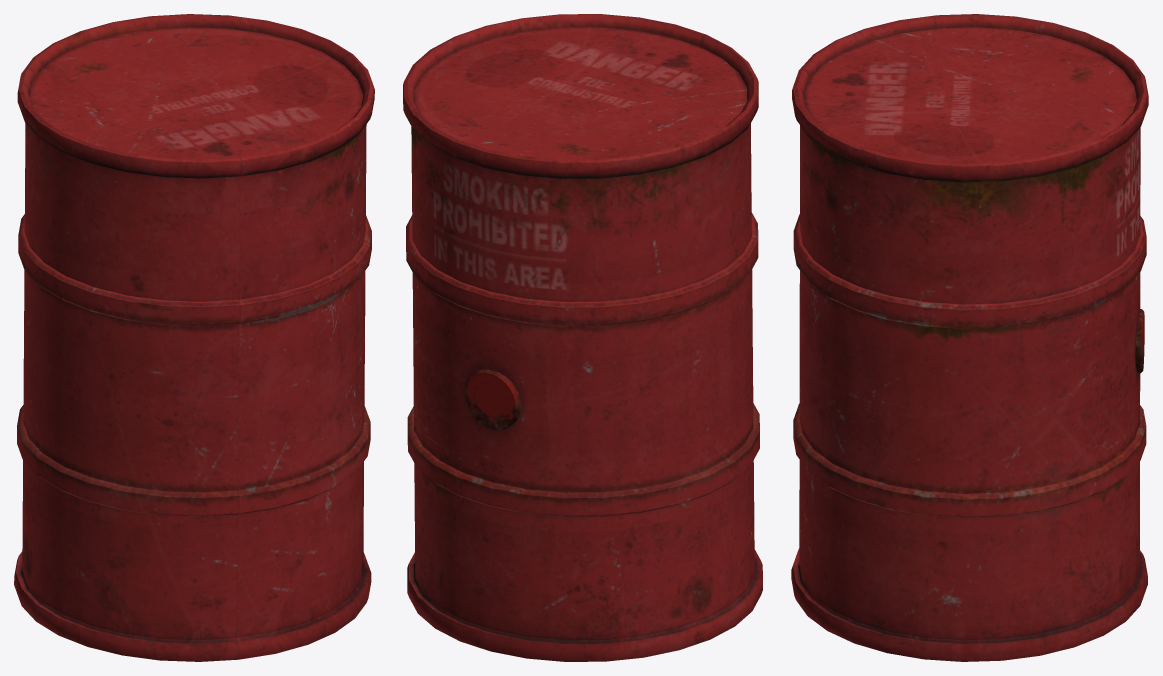
File: Prop_GasBarrel_Red.fbx
The picture shows the model from 3 angles, left to right: view 1: azimuth 30°, elevation 25°; view 2: azimuth 150°, elevation 25°; view 3: azimuth 270°, elevation 25°; orthographic projection.
Parts seen in each view (by area): view 1: Prop_GasBarrel_Red; view 2: Prop_GasBarrel_Red; view 3: Prop_GasBarrel_Red.
Boxes of the visible parts, x1,y1,x2,y2 form: Prop_GasBarrel_Red: (14,14,374,661); Prop_GasBarrel_Red: (403,14,762,661); Prop_GasBarrel_Red: (791,14,1148,661).
Size of the model in its own units: 29.47 by 45.31 by 29.18.
